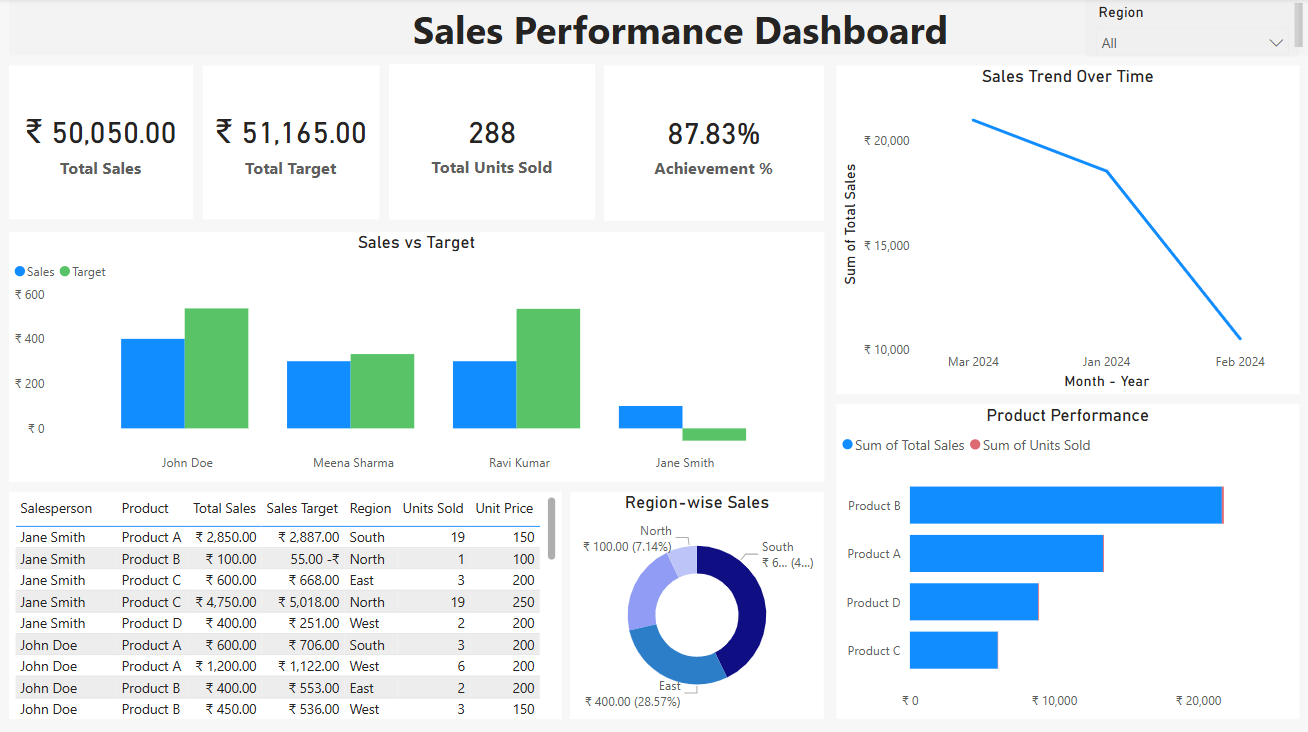

What the dashboard file says about the page in this screenshot:
{"tool":"powerbi","page":{"name":"Page 1","canvas":[1280,720],"ordinal":0},"visuals":[{"type":"textbox","box":[9.8,0,1270.5,56.3],"z":0},{"type":"card","fields":{"Values":["Sum(Sheet1.Total Sales)"]},"box":[9.8,66,179.8,150.4],"z":1000},{"type":"card","fields":{"Values":["Sum(Sheet1.Sales Target)"]},"box":[199.3,66,172.4,150.4],"z":2000},{"type":"card","fields":{"Values":["Sum(Sheet1.Units Sold)"]},"box":[381.5,64.8,201.8,151.6],"z":3000},{"type":"card","fields":{"Values":["Avg(Sheet1.Achievement %)"]},"box":[591.9,66,215.2,151.6],"z":4000},{"type":"clusteredColumnChart","title":"Sales vs Target","fields":{"Category":["Sheet1.Salesperson"],"Y":["Min(Sheet1.Total Sales)","Min(Sheet1.Sales Target)"]},"box":[9.8,228.7,797.3,244.6],"z":5000},{"type":"lineChart","title":"Sales Trend Over Time","fields":{"Y":["Sum(Sheet1.Total Sales)"],"Category":["Sheet1.Month - Year"]},"box":[819.3,66,452.4,321.6],"z":6000},{"type":"donutChart","title":"Region-wise Sales","fields":{"Category":["Sheet1.Region"],"Y":["Min(Sheet1.Total Sales)"]},"box":[558.8,483,248.2,222.6],"z":7000},{"type":"tableEx","fields":{"Values":["Sheet1.Salesperson","Sheet1.Product","Sheet1.Total Sales","Sheet1.Sales Target","Sheet1.Region","Sheet1.Units Sold","Sheet1.Unit Price"]},"box":[9.8,483,540.5,222.6],"z":8000},{"type":"barChart","title":"Product Performance","fields":{"Category":["Sheet1.Product"],"Y":["Sum(Sheet1.Total Sales)","Sum(Sheet1.Units Sold)"]},"box":[819.3,397.4,452.4,308.2],"z":9000},{"type":"slicer","fields":{"Values":["Sheet1.Region"]},"box":[1062.6,0,209.1,57.5],"z":10000}]}

Visuals, with their boxes in screenshot pixels (x1, y1, x2, y2), scaled from the page's 1280x720 canvas onto the 1308x732 screenshot:
textbox: 10:0:1307:57
card - Sum(Sheet1.Total Sales): 10:67:194:220
card - Sum(Sheet1.Sales Target): 204:67:380:220
card - Sum(Sheet1.Units Sold): 390:66:596:220
card - Avg(Sheet1.Achievement %): 605:67:825:221
"Sales vs Target" clusteredColumnChart: 10:233:825:481
"Sales Trend Over Time" lineChart: 837:67:1300:394
"Region-wise Sales" donutChart: 571:491:825:717
tableEx - Sheet1.Salesperson x Sheet1.Product: 10:491:562:717
"Product Performance" barChart: 837:404:1300:717
slicer - Sheet1.Region: 1086:0:1300:58
